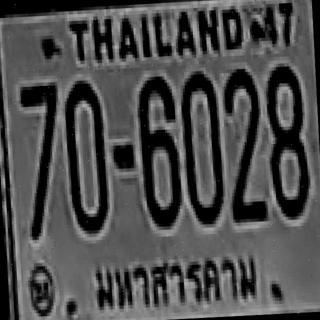N00: (62, 78, 109, 233), (179, 72, 224, 224)
N02: (222, 66, 265, 218), (221, 66, 263, 205)
N06: (136, 74, 181, 226)
N07: (19, 82, 64, 237), (19, 82, 63, 210), (19, 82, 62, 184)
N08: (265, 62, 310, 218)
P25: (89, 243, 263, 318)
